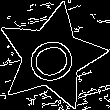O_NE: (19, 27, 84, 87)
